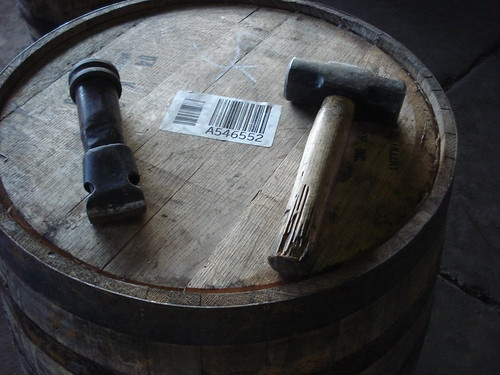hammer: (268, 54, 406, 272)
